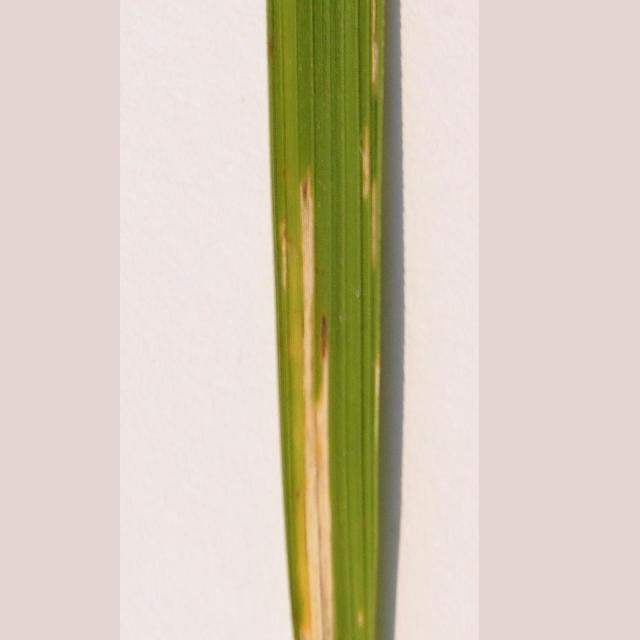Bacterial leaf blight: (273, 155, 338, 640), (356, 125, 398, 254), (360, 0, 400, 100), (370, 346, 388, 438)
